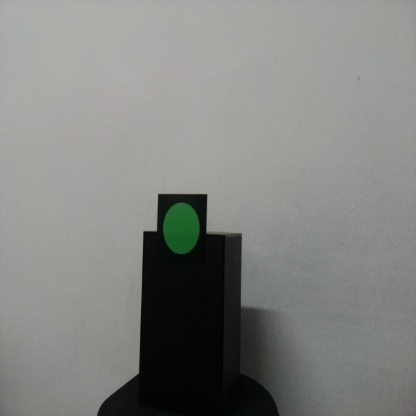id_5: (158, 195, 208, 275)
